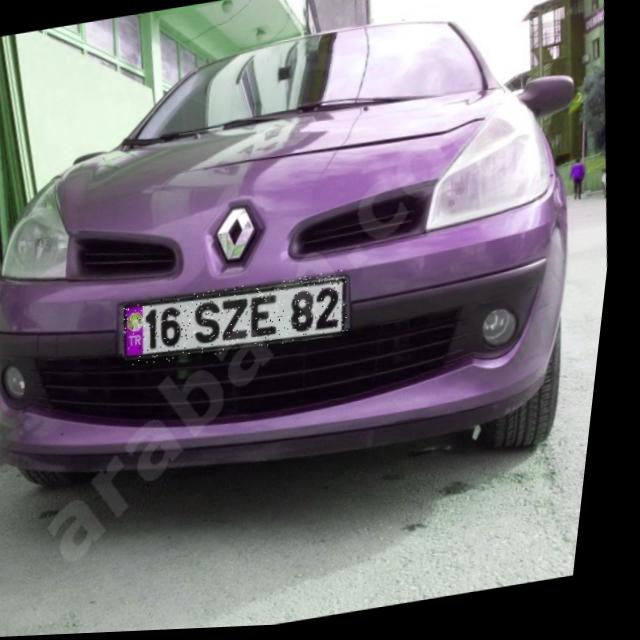license_plate: (123, 271, 361, 371)
